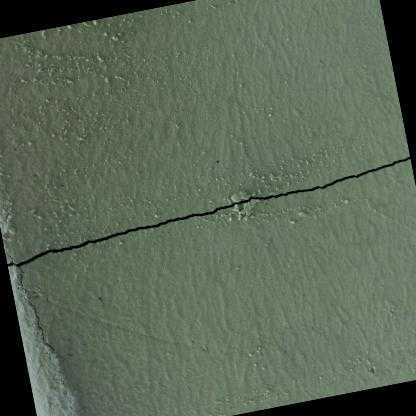crack: (6, 154, 410, 270)
